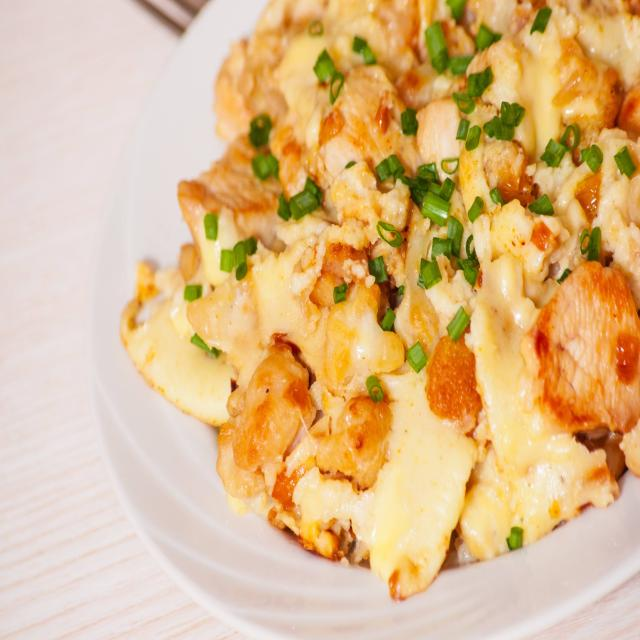carne de cerdo: (124, 0, 638, 585)
